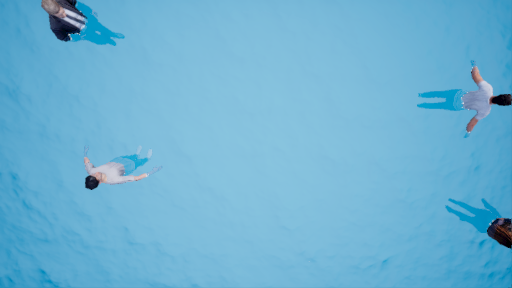person: (417, 61, 512, 133), (34, 1, 127, 53), (73, 138, 163, 190), (451, 193, 512, 249)
